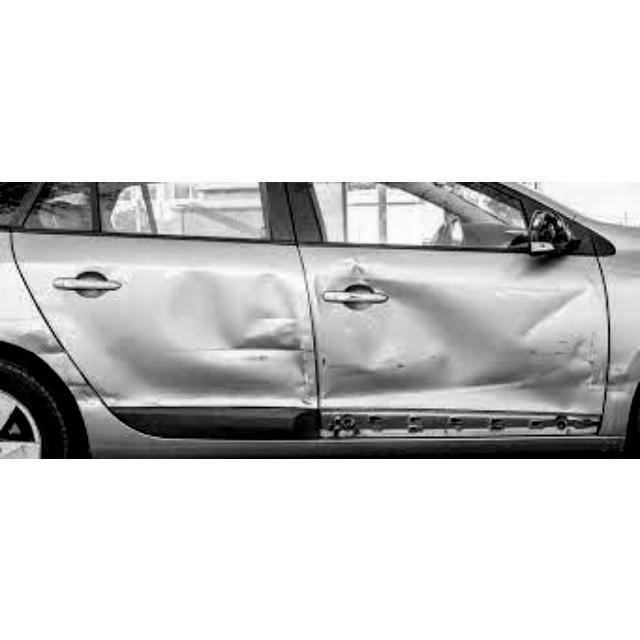doorouter-dent: (318, 243, 607, 413), (43, 241, 317, 411)
